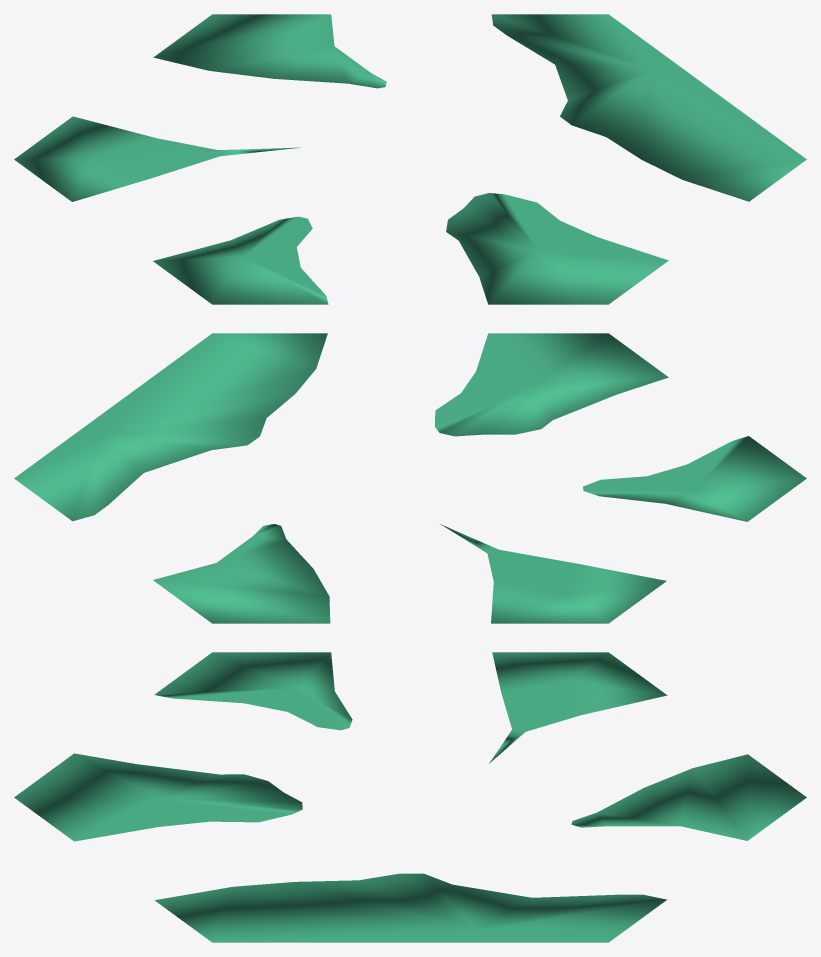
The model's file is riverL_flat.fbx.
3 renders of one model, top to bottom at view 1: azimuth 30°, elevation 25°; view 2: azimuth 150°, elevation 25°; view 3: azimuth 270°, elevation 25°, orthographic.
Visible parts, largest first — view 1: hex_forest_roadL_Cylinder.498; view 2: hex_forest_roadL_Cylinder.498; view 3: hex_forest_roadL_Cylinder.498.
Boxes of the visible parts, bbox=[...] form: hex_forest_roadL_Cylinder.498: bbox=[14, 14, 806, 304]; hex_forest_roadL_Cylinder.498: bbox=[14, 333, 806, 623]; hex_forest_roadL_Cylinder.498: bbox=[14, 652, 806, 942].
Bounding box in the file's own units: 190 × 1.66e-05 × 220.
